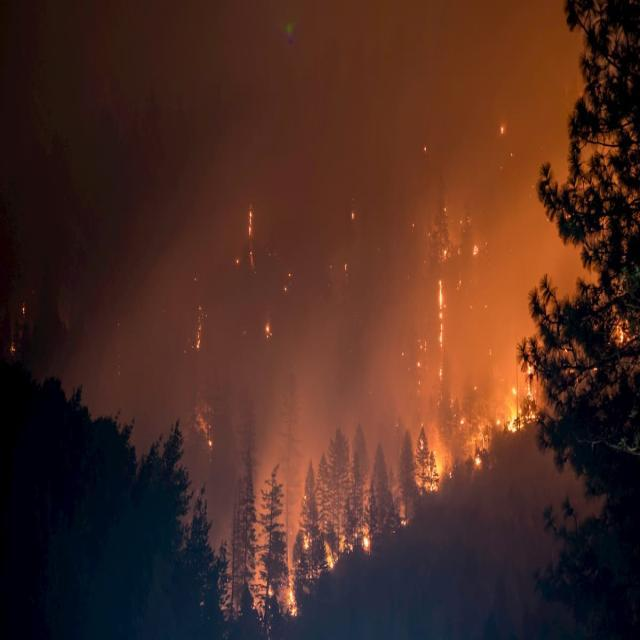Fire: (503, 358, 539, 436), (428, 276, 450, 392), (193, 394, 220, 449), (193, 288, 207, 362), (426, 444, 448, 486), (284, 586, 305, 619), (316, 549, 340, 575), (466, 228, 484, 262), (471, 449, 486, 476), (615, 326, 632, 346), (262, 320, 276, 343), (249, 200, 254, 259), (358, 536, 374, 553), (304, 534, 316, 556), (266, 582, 278, 604), (347, 208, 362, 225), (10, 334, 18, 362), (20, 297, 28, 325), (493, 412, 505, 428), (456, 414, 470, 426), (472, 381, 483, 393), (342, 262, 350, 278), (501, 118, 506, 142), (442, 249, 452, 260)
